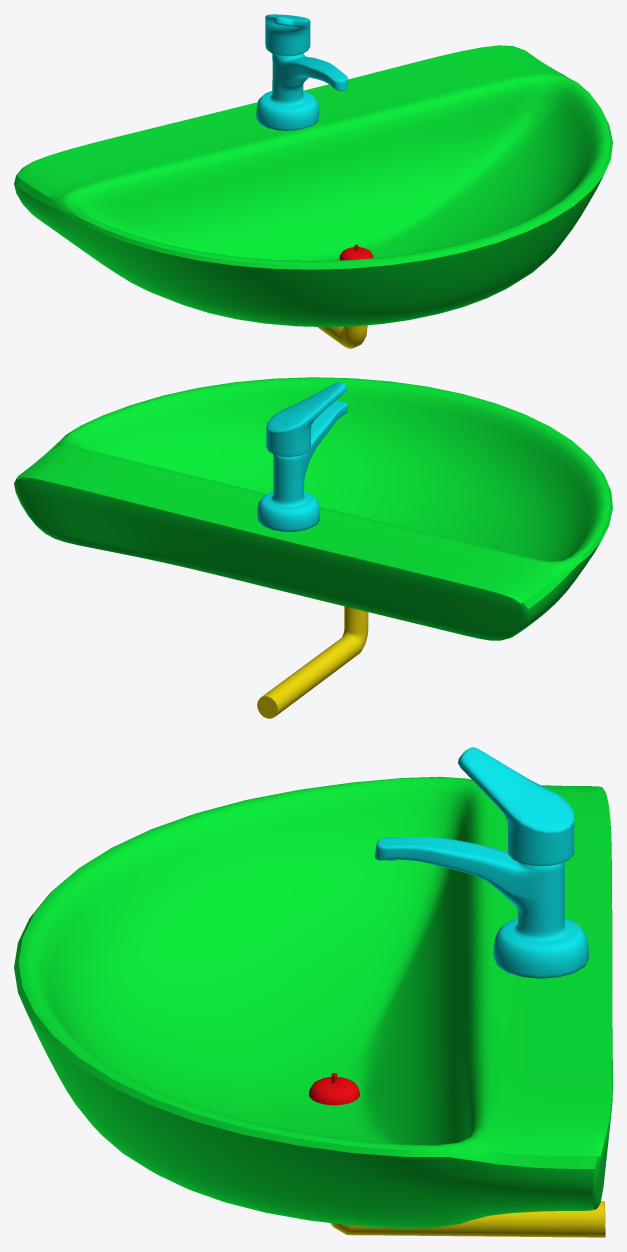
Rendered from Lavabo_CFS.fbx.
3 renders of one model, top to bottom at view 1: azimuth 30°, elevation 25°; view 2: azimuth 150°, elevation 25°; view 3: azimuth 270°, elevation 25°, orthographic. The views are drawn at different scales.
Parts seen in each view (by area): view 1: Circle, Cylinder, Cylinder.001, Cylinder.004; view 2: Circle, Cylinder, Cylinder.004, Cylinder.001; view 3: Circle, Cylinder, Cylinder.001, Cylinder.004, Cylinder.003.
Boxes of the visible parts, x1,y1,x2,y2 form: Circle: (14, 45, 612, 326); Cylinder: (256, 53, 347, 130); Cylinder.001: (265, 14, 310, 55); Cylinder.004: (317, 325, 367, 348); Circle: (14, 377, 612, 640); Cylinder: (257, 400, 347, 531); Cylinder.004: (257, 606, 368, 718); Cylinder.001: (266, 382, 346, 456); Circle: (14, 776, 612, 1228); Cylinder: (375, 836, 588, 978); Cylinder.001: (458, 747, 574, 865); Cylinder.004: (330, 1201, 605, 1237); Cylinder.003: (309, 1073, 359, 1105).
Size of the model in its own units: 113 by 64.58 by 75.39.
